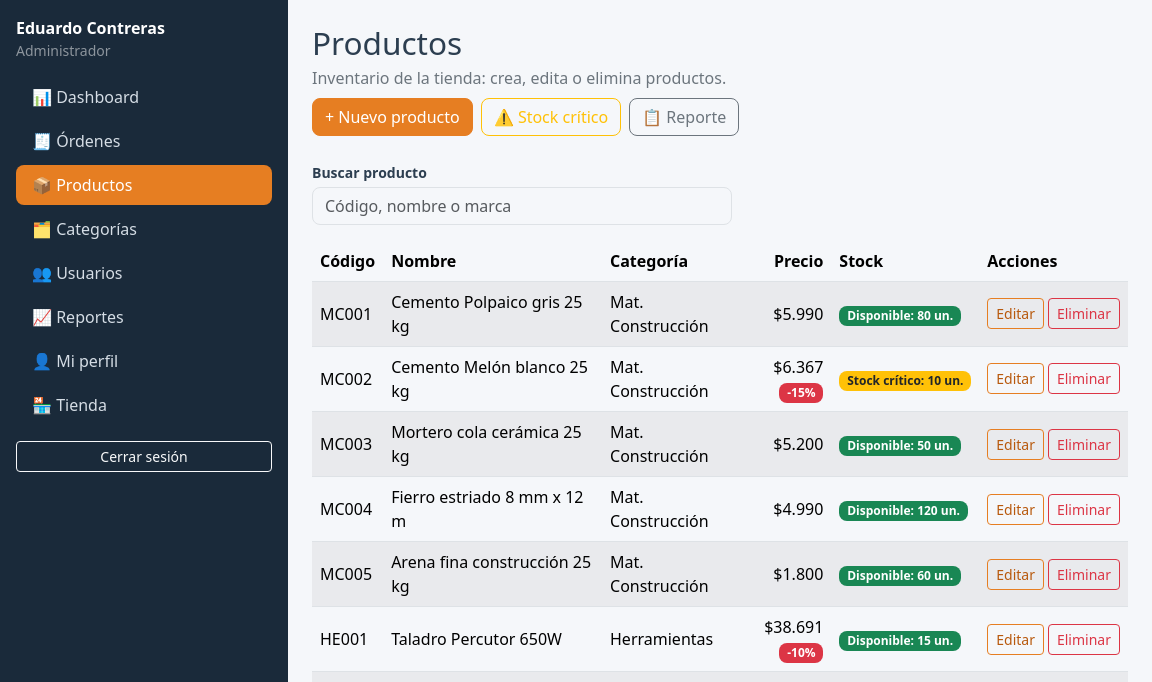
Productos (CRUD) › lista el inventario y filtra por código, nombre o marca
This screenshot has width=1152, height=682.
Type "bosch" into the search field labelled "Buscar producto" at (522, 206), box [312,187,732,225]
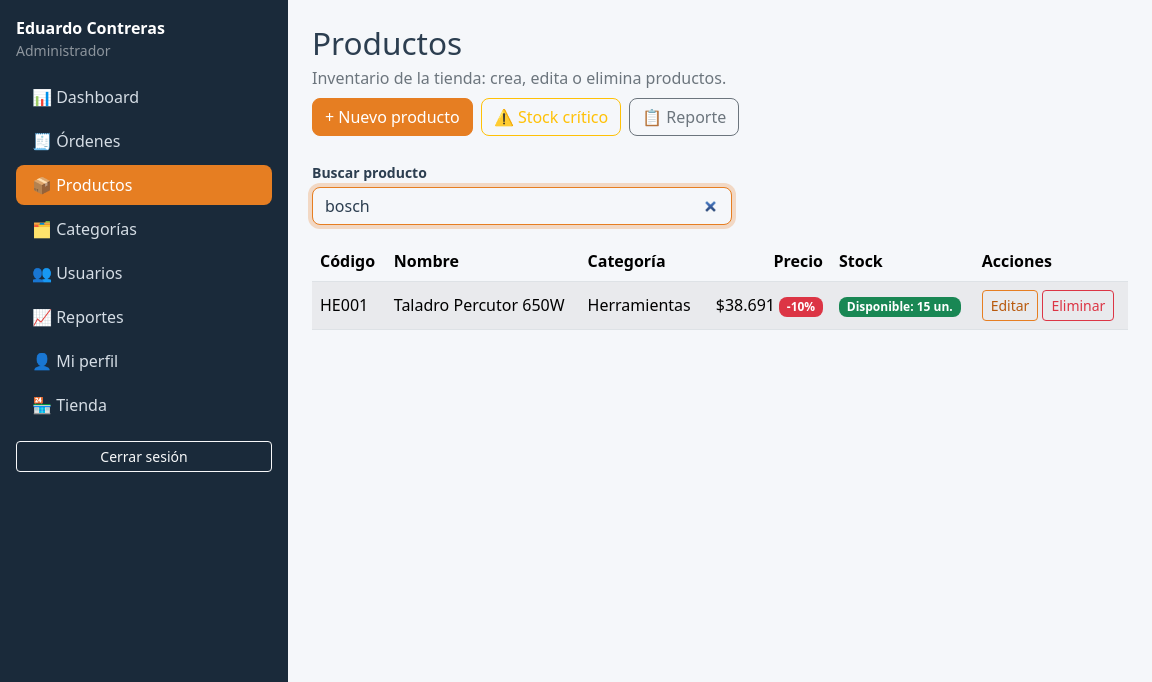
Expected: the text "Taladro Percutor 650W" is shown, [386,281,580,329]
Expected: the number of rows is 2, [312,241,1128,281]; [312,281,1128,329]
